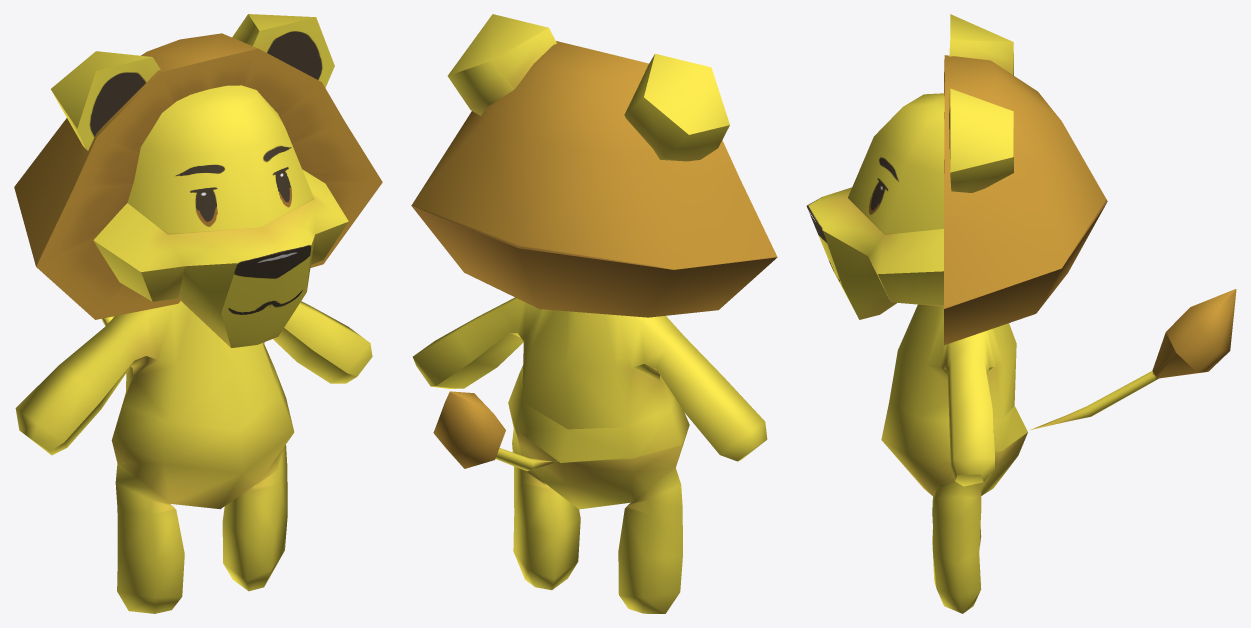
The model's file is Lion02.FBX.
3 renders of one model, left to right at view 1: azimuth 30°, elevation 25°; view 2: azimuth 150°, elevation 25°; view 3: azimuth 270°, elevation 25°, orthographic. The views are drawn at different scales.
Parts seen in each view (by area): view 1: Char_02_lion, Char_body; view 2: Char_02_lion, Char_body; view 3: Char_02_lion, Char_body.
Boxes of the visible parts, left/top/right/bottom form: Char_02_lion: left=14, top=14, right=382, bottom=347; Char_body: left=15, top=301, right=372, bottom=613; Char_02_lion: left=411, top=14, right=777, bottom=471; Char_body: left=413, top=297, right=767, bottom=613; Char_02_lion: left=806, top=14, right=1236, bottom=430; Char_body: left=881, top=304, right=1027, bottom=613.
Bounding box in the file's own units: 52.76 × 80.65 × 60.74.
